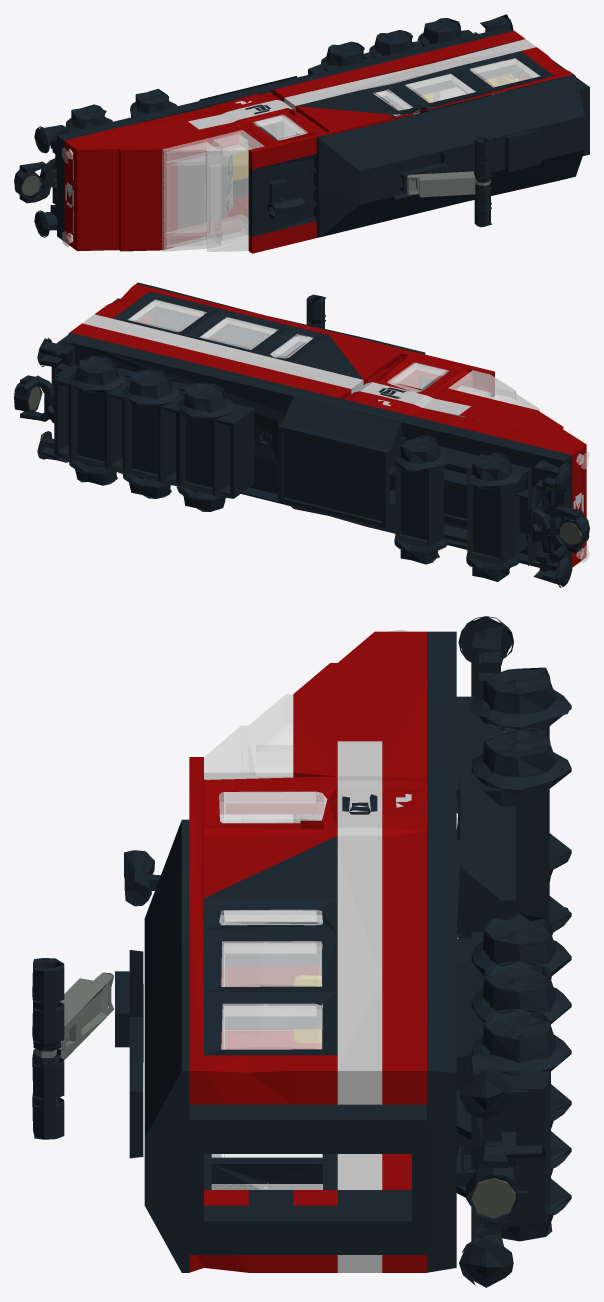
Rendered from driving-trailer.glb.
3 renders of one model, top to bottom at view 1: azimuth 30°, elevation 25°; view 2: azimuth 150°, elevation 25°; view 3: azimuth 270°, elevation 25°, orthographic. The views are drawn at different scales.
Bounding box in the file's own units: 252 × 52 × 116.
